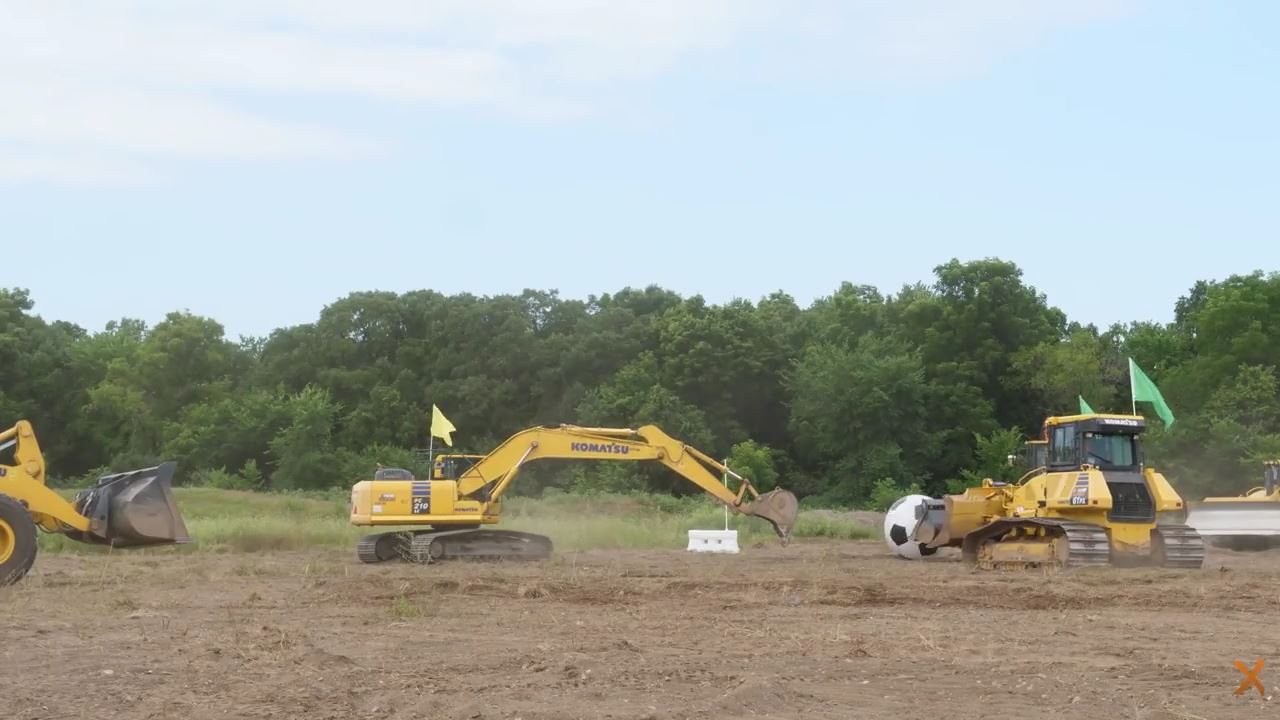con_eq: (346, 417, 799, 565), (914, 405, 1206, 570), (3, 413, 198, 589)
